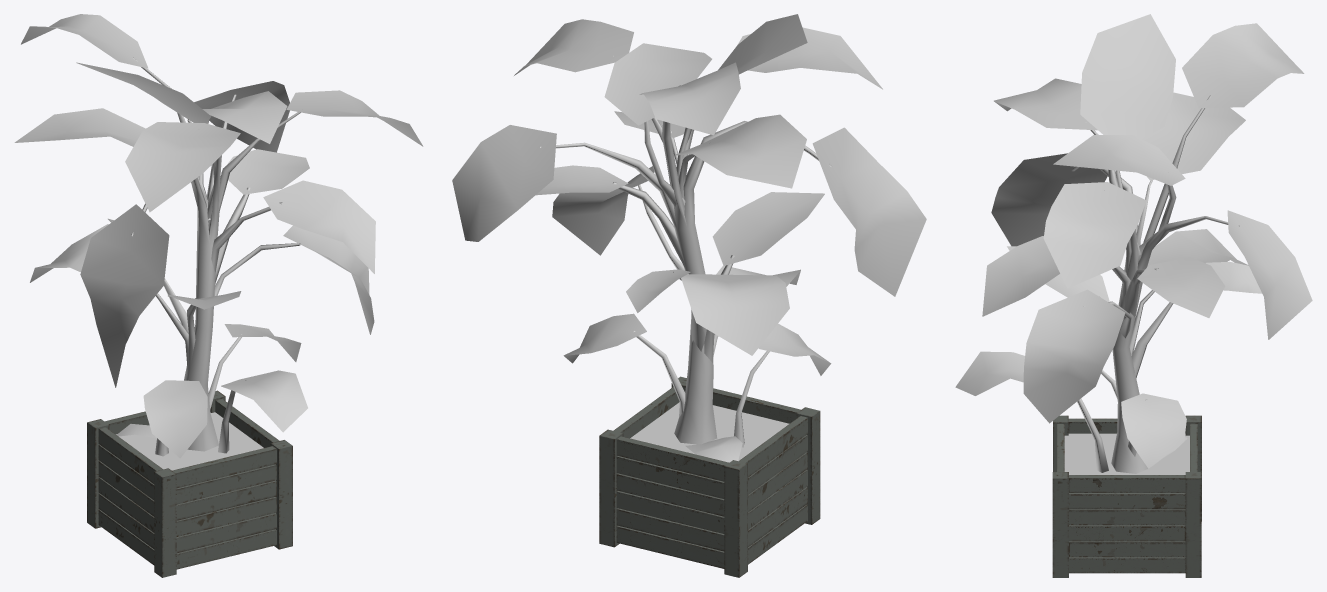
The model's file is SM_PlantD.FBX.
3 renders of one model, left to right at view 1: azimuth 30°, elevation 25°; view 2: azimuth 150°, elevation 25°; view 3: azimuth 270°, elevation 25°, orthographic. The views are drawn at different scales.
Parts seen in each view (by area): view 1: SM_PlantD_LOD0; view 2: SM_PlantD_LOD0; view 3: SM_PlantD_LOD0.
Boxes of the visible parts, left/top/right/bottom form: SM_PlantD_LOD0: left=14, top=14, right=423, bottom=577; SM_PlantD_LOD0: left=452, top=14, right=926, bottom=577; SM_PlantD_LOD0: left=955, top=14, right=1312, bottom=577.
Size of what is drawn, in the model's own units: 86.81 by 120 by 80.71.
